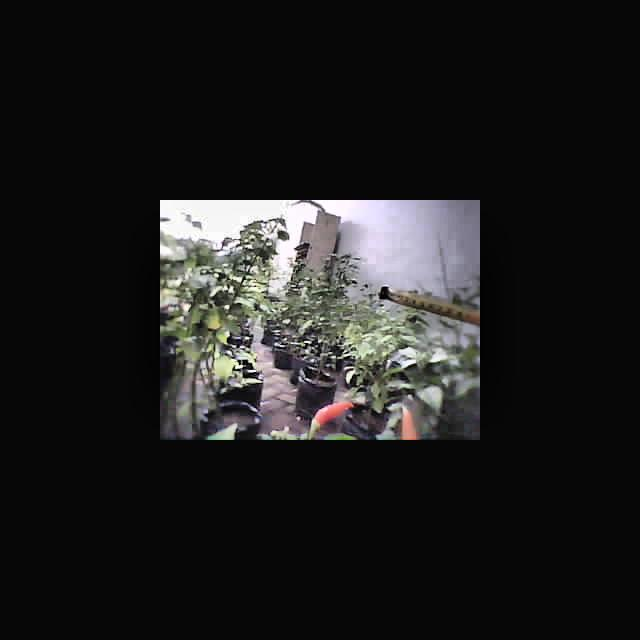Cabai: (301, 399, 357, 439), (393, 405, 423, 440)
